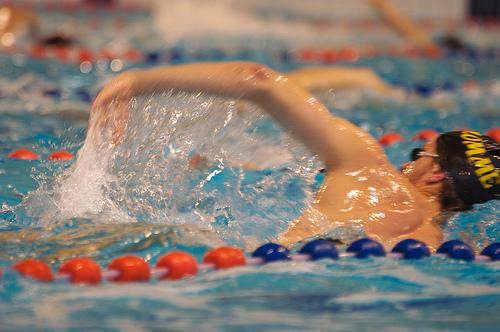swimmer: (88, 62, 499, 262)
